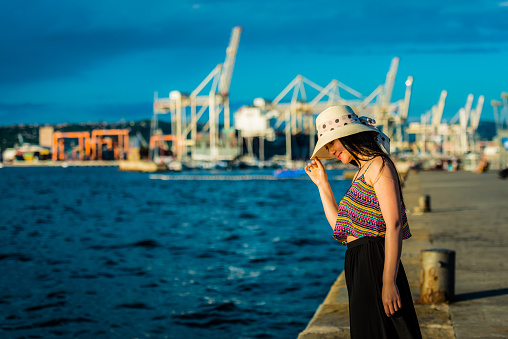em pe: (287, 98, 408, 336)
